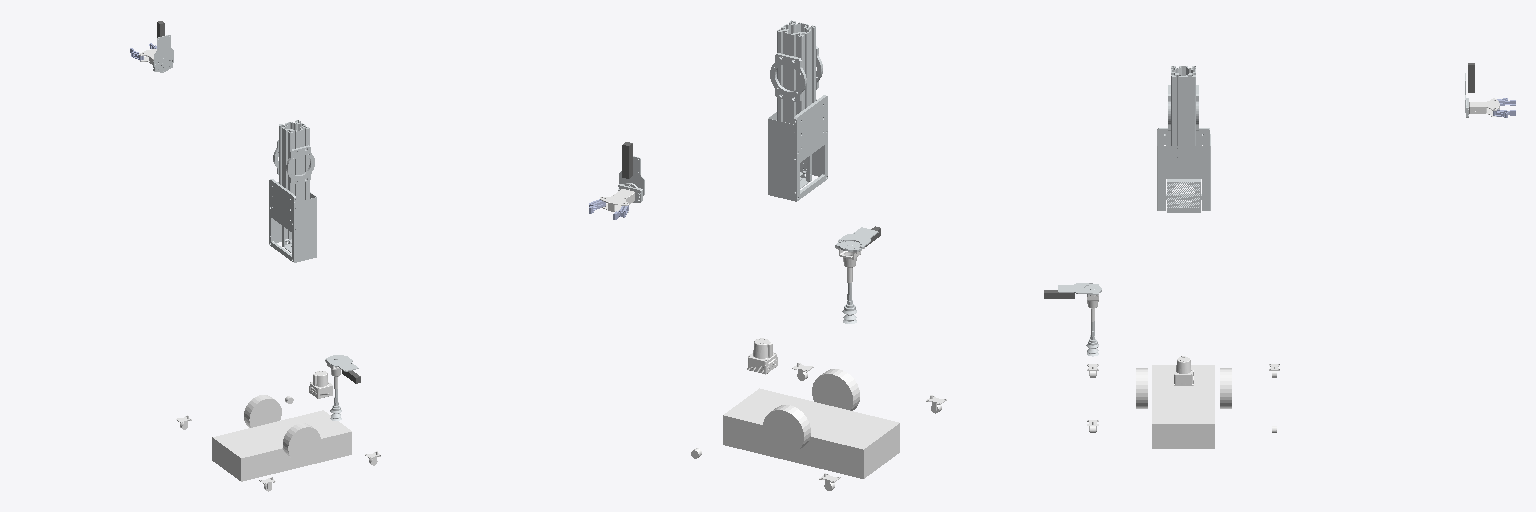
--- What the picture shows (computed from the rendered views, not written in the file) ---
3 views of the same robot in one strip: view 1: azimuth 30°, elevation 25°; view 2: azimuth 150°, elevation 25°; view 3: azimuth 270°, elevation 25° (orthographic).
Model galbot_zero with 58 links and 57 joints (8 revolute, 4 prismatic, 45 fixed), rooted at mobile_base, posed all joints at 0.
Visible links, largest first — view 1: body_lift_link, hexman_chassis_base_link, hexman_chassis_right_wheel_link, hexman_chassis_left_wheel_link; view 2: body_lift_link, hexman_chassis_base_link, hexman_chassis_left_wheel_link, hexman_chassis_right_wheel_link, hexman_chassis_lidar_link; view 3: body_lift_link, hexman_chassis_base_link.
Boxes of the visible links, x1,y1,x2,y2 form: body_lift_link: (269,120,316,262); hexman_chassis_base_link: (212,410,351,481); hexman_chassis_right_wheel_link: (283,423,320,461); hexman_chassis_left_wheel_link: (244,395,281,427); body_lift_link: (768,20,827,201); hexman_chassis_base_link: (723,388,899,478); hexman_chassis_left_wheel_link: (763,405,810,453); hexman_chassis_right_wheel_link: (812,369,859,410); hexman_chassis_lidar_link: (747,338,777,374); body_lift_link: (1157,66,1210,212); hexman_chassis_base_link: (1152,365,1214,448).
Bounding box of the posed robot: 0.4696 × 1.5 × 1.28 m (x, y, z).
Meshes: 32 distinct files referenced, 15 mesh visuals loaded (13 binary STL); not drawn: 19 (reference not matched to a file when rendering).

URDF robot description (galbot_zero):
<?xml version="1.0" ?>
<!-- =================================================================================== -->
<!-- |    For CUROBO                                                                   | -->
<!-- =================================================================================== -->
<!-- #####################################################################################
#
# Copyright (c) 2023 Galbot, Inc. All Rights Reserved.
#
# This software contains confidential and proprietary information of Galbot, Inc.
# ("Confidential Information"). You shall not disclose such Confidential Information
# and shall use it only in accordance with the terms of the license agreement you
# entered into with Galbot, Inc.
#
# UNAUTHORIZED COPYING, USE, OR DISTRIBUTION OF THIS SOFTWARE, OR ANY PORTION OR
# DERIVATIVE THEREOF, IS STRICTLY PROHIBITED. IF YOU HAVE RECEIVED THIS SOFTWARE IN
# ERROR, PLEASE NOTIFY GALBOT, INC. IMMEDIATELY AND DELETE IT FROM YOUR SYSTEM.
#
#####################################################################################-->

<robot name="galbot_zero">
    <material name="aluminum">
        <color rgba="0.5 0.5 0.5 1"/>
    </material>
    <material name="plastic">
        <color rgba="0.1 0.1 0.1 1"/>
    </material>
    <!-- Links and joints -->

    <link name="mobile_base">
        <inertial>
            <mass value="0"/>
            <inertia ixx="0" ixy="0" ixz="0" iyy="0" iyz="0" izz="0"/>
        </inertial>
    </link>
    <link name="base_link_x">
        <inertial>
            <mass value="0"/>
            <inertia ixx="0" ixy="0" ixz="0" iyy="0" iyz="0" izz="0"/>
        </inertial>
    </link>
    <link name="base_link_y">
        <inertial>
            <mass value="0"/>
            <inertia ixx="0" ixy="0" ixz="0" iyy="0" iyz="0" izz="0"/>
        </inertial>
    </link>
    <link name="base_link_z">
        <inertial>
            <mass value="0"/>
            <inertia ixx="0" ixy="0" ixz="0" iyy="0" iyz="0" izz="0"/>
        </inertial>
    </link>
    <joint name="mobile_x" type="prismatic">
        <origin rpy="0 0 0.0" xyz="0 0 0.0"/>
        <parent link="mobile_base"/>
        <child link="base_link_x"/>
        <axis xyz="1 0 0"/>
        <dynamics damping="10.0"/>
        <limit effort="87" lower="-5.0" upper="5.0" velocity="3.0"/>
    </joint>
    <joint name="mobile_y" type="prismatic">
        <origin rpy="0 0 0.0" xyz="0 0 0.0"/>
        <parent link="base_link_x"/>
        <child link="base_link_y"/>
        <axis xyz="0 1 0"/>
        <dynamics damping="10.0"/>
        <limit effort="87" lower="-5.0" upper="5.0" velocity="3.0"/>
    </joint>
    <joint name="mobile_yaw" type="revolute">
        <origin rpy="0 0 0.0" xyz="0 0 0.0"/>
        <parent link="base_link_y"/>
        <child link="base_link_z"/>
        <axis xyz="0 0 1"/>
        <dynamics damping="10.0"/>
        <limit effort="87" lower="-6.0" upper="6.0" velocity="4.50"/>
    </joint>
    <joint name="base_fixed" type="fixed">
        <origin rpy="0 0 0.0" xyz="0 0 0.0"/>
        <parent link="base_link_z"/>
        <child link="base_link"/>
        <axis xyz="0 0 0"/>
    </joint>

    <link name="base_link">
        <inertial>
            <mass value="0"/>
            <inertia ixx="0" ixy="0" ixz="0" iyy="0" iyz="0" izz="0"/>
        </inertial>
    </link>
    <joint name="hexman_chassis_joint" type="fixed">
        <origin rpy="0 0 0" xyz="0 0 0"/>
        <parent link="base_link"/>
        <child link="hexman_chassis_base_link"/>
    </joint>
    <link name="hexman_chassis_base_link">
        <inertial>
            <origin rpy="0 0 0" xyz="0.0019437 -2.5309E-05 0.094764"/>
             <!-- <mass value="20.4113"/>-->
             <mass value="7.4113" /> 
            <inertia ixx="0.075816" ixy="9.0316E-09" ixz="1.816E-05" iyy="0.083303" iyz="9.8923E-09" izz="0.15228"/>
        </inertial>
        <visual>
            <origin rpy="0 0 0" xyz="0 0 0"/>
            <geometry>
                <box size="0.443 0.2 0.089"/>
                <!-- <mesh filename="meshes/chassis/hexman_chassis_base_link.stl"/> -->
            </geometry>
            <material name="">
                <color rgba="1 1 1 1"/>
            </material>
        </visual>
        <collision>
            <origin rpy="0 0 0" xyz="0 0 0.089"/>
            <geometry>
                <box size="0.443 0.2 0.089"/>
                <!-- <mesh filename="meshes/chassis/hexman_chassis_base_link.stl" /> -->
            </geometry>
        </collision>
    </link>
    <link name="hexman_chassis_right_wheel_link">
        <inertial>
            <origin rpy="0 0 0" xyz="-2.5255E-19 0 -0.0004362"/>
            <mass value="0.5968"/>
            <inertia ixx="0.00067338" ixy="1.2511E-08" ixz="-2.7671E-20" iyy="0.00067336" iyz="1.2923E-18"
                     izz="0.0010757"/>
        </inertial>
        <visual>
            <origin rpy="0 0 0" xyz="0 0 0"/>
            <geometry>
                <cylinder length="0.0386" radius="0.0650"/>
                <!-- <mesh filename="meshes/chassis/hexman_chassis_right_wheel_link.stl"/> -->
            </geometry>
            <material name="">
                <color rgba="1 1 1 1"/>
            </material>
        </visual>
        <collision>
            <origin rpy="0 0 0" xyz="0 0 0"/>
            <geometry>
                <cylinder length="0.0386" radius="0.0650"/>
                <!-- <mesh filename="meshes/chassis/hexman_chassis_right_wheel_link.stl" /> -->
            </geometry>
        </collision>
    </link>
    <joint name="hexman_chassis_right_wheel_joint" type="fixed">
        <origin rpy="-1.5708 0 3.1416" xyz="0 -0.1341 0.067"/>
        <parent link="hexman_chassis_base_link"/>
        <child link="hexman_chassis_right_wheel_link"/>
        <axis xyz="0 0 -1"/>
        <dynamics damping="100.0" friction="0.0"/>
        <transmission name="hexman_chassis_right_wheel_joint_trans">
            <type>transmission_interface/SimpleTransmission</type>
            <joint name="hexman_chassis_right_wheel_joint">
                <hardwareInterface>VelocityJointInterface</hardwareInterface>
            </joint>
            <actuator name="hexman_chassis_right_wheel_joint_motor">
                <mechanicalReduction>1</mechanicalReduction>
            </actuator>
        </transmission>
    </joint>
    <link name="hexman_chassis_left_wheel_link">
        <inertial>
            <origin rpy="0 0 0" xyz="-7.3416E-19 0 0.0004362"/>
            <mass value="0.5968"/>
            <inertia ixx="0.00067338" ixy="-1.2742E-08" ixz="-3.5321E-20" iyy="0.00067336" iyz="-3.1288E-18"
                     izz="0.0010757"/>
        </inertial>
        <visual>
            <origin rpy="0 0 0" xyz="0 0 0"/>
            <geometry>
                <!-- <mesh filename="meshes/chassis/hexman_chassis_left_wheel_link.stl"/> -->
                <cylinder length="0.0386" radius="0.0650"/>
            </geometry>
            <material name="">
                <color rgba="1 1 1 1"/>
            </material>
        </visual>
        <collision>
            <origin rpy="0 0 0" xyz="0 0 0"/>
            <geometry>
                <cylinder length="0.0386" radius="0.0650"/>
                <!-- <mesh filename="meshes/chassis/hexman_chassis_left_wheel_link.stl" /> -->
            </geometry>
        </collision>
    </link>
    <joint name="hexman_chassis_left_wheel_joint" type="fixed">
        <origin rpy="-1.5708 0 3.1416" xyz="0 0.1341 0.067"/>
        <parent link="hexman_chassis_base_link"/>
        <child link="hexman_chassis_left_wheel_link"/>
        <axis xyz="0 0 1"/>
        <dynamics damping="100.0" friction="0.0"/>
        <transmission name="hexman_chassis_left_wheel_joint_trans">
            <type>transmission_interface/SimpleTransmission</type>
            <joint name="hexman_chassis_left_wheel_joint">
                <hardwareInterface>VelocityJointInterface</hardwareInterface>
            </joint>
            <actuator name="hexman_chassis_left_wheel_joint_motor">
                <mechanicalReduction>1</mechanicalReduction>
            </actuator>
        </transmission>
    </joint>

    <link name="hexman_chassis_caster_swivel_link1">
        <inertial>
            <origin rpy="0 0 0" xyz="0.014272 7.0133E-05 -0.0064185"/>
            <mass value="0.0058282"/>
            <inertia ixx="1.0504E-06" ixy="-9.9424E-10" ixz="4.8427E-08" iyy="1.2527E-06" iyz="2.3797E-10"
                     izz="1.3349E-06"/>
        </inertial>
        <visual>
            <origin rpy="0 0 0" xyz="0 0 0"/>
            <geometry>
                <mesh filename="meshes/chassis/hexman_chassis_caster_swivel_link1.stl"/>
            </geometry>
            <material name="">
                <color rgba="1 1 1 1"/>
            </material>
        </visual>
        <collision>
            <origin rpy="0 0 0" xyz="0 0 0"/>
            <geometry>
                <mesh filename="meshes/chassis/hexman_chassis_caster_swivel_link1.stl"/>
            </geometry>
        </collision>
    </link>
    <joint name="hexman_chassis_caster_swivel_joint1" type="fixed">
        <origin rpy="0 0 3.1416" xyz="0.21 0.29 0.037"/>
        <parent link="hexman_chassis_base_link"/>
        <child link="hexman_chassis_caster_swivel_link1"/>
        <axis xyz="0 0 -1"/>
        <dynamics damping="0.1" friction="0.0"/>
    </joint>
    <link name="hexman_chassis_caster_wheel_link1">
        <inertial>
            <origin rpy="0 0 0" xyz="0 0 0"/>
            <mass value="0.0083449"/>
            <inertia ixx="5.2694E-07" ixy="1.2465E-25" ixz="-1.7105E-23" iyy="5.2694E-07" iyz="7.4033E-23"
                     izz="6.5194E-07"/>
        </inertial>
        <visual>
            <origin rpy="0 0 0" xyz="0 0 0"/>
            <geometry>
                <cylinder length="0.017" radius="0.0125"/>
                <!-- <mesh filename="meshes/chassis/hexman_chassis_caster_wheel_link1.stl"/> -->
            </geometry>
            <material name="">
                <color rgba="1 1 1 1"/>
            </material>
        </visual>
        <collision>
            <origin rpy="0 0 0" xyz="0 0 0"/>
            <geometry>
                <cylinder length="0.017" radius="0.0125"/>
                <!-- <mesh filename="meshes/chassis/hexman_chassis_caster_wheel_link1.stl" /> -->
            </geometry>
        </collision>
    </link>
    <joint name="hexman_chassis_caster_wheel_joint1" type="fixed">
        <origin rpy="-1.5757 1.5708 3.1416" xyz="0.015 7.3709E-05 -0.0245"/>
        <parent link="hexman_chassis_caster_swivel_link1"/>
        <child link="hexman_chassis_caster_wheel_link1"/>
        <axis xyz="0 0 -1"/>
        <dynamics damping="0.1" friction="0.0"/>
    </joint>
    <link name="hexman_chassis_caster_swivel_link2">
        <inertial>
            <origin rpy="0 0 0" xyz="0.014272 0 -0.0064185"/>
            <mass value="0.0058282"/>
            <inertia ixx="1.0504E-06" ixy="6.2844E-22" ixz="4.8428E-08" iyy="1.2527E-06" iyz="-1.4139E-22"
                     izz="1.3349E-06"/>
        </inertial>
        <visual>
            <origin rpy="0 0 0" xyz="0 0 0"/>
            <geometry>
                <mesh filename="meshes/chassis/hexman_chassis_caster_swivel_link2.stl"/>
            </geometry>
            <material name="">
                <color rgba="1 1 1 1"/>
            </material>
        </visual>
        <collision>
            <origin rpy="0 0 0" xyz="0 0 0"/>
            <geometry>
                <mesh filename="meshes/chassis/hexman_chassis_caster_swivel_link2.stl"/>
            </geometry>
        </collision>
    </link>
    <joint name="hexman_chassis_caster_swivel_joint2" type="fixed">
        <origin rpy="0 0 3.1416" xyz="0.21 -0.29 0.037"/>
        <parent link="hexman_chassis_base_link"/>
        <child link="hexman_chassis_caster_swivel_link2"/>
        <axis xyz="0 0 -1"/>
        <dynamics damping="0.1" friction="0.0"/>
    </joint>
    <link name="hexman_chassis_caster_wheel_link2">
        <inertial>
            <origin rpy="0 0 0" xyz="-2.7756E-17 0 0"/>
            <mass value="0.0083449"/>
            <inertia ixx="5.2694E-07" ixy="-1.3642E-37" ixz="4.5487E-23" iyy="5.2694E-07" iyz="3.966E-25"
                     izz="6.5194E-07"/>
        </inertial>
        <visual>
            <origin rpy="0 0 0" xyz="0 0 0"/>
            <geometry>
                <!-- <mesh filename="meshes/chassis/hexman_chassis_caster_wheel_link2.stl"/> -->
                <cylinder length="0.017" radius="0.0125"/>
            </geometry>
            <material name="">
                <color rgba="1 1 1 1"/>
            </material>
        </visual>
        <collision>
            <origin rpy="0 0 0" xyz="0 0 0"/>
            <geometry>
                <cylinder length="0.017" radius="0.0125"/>
            </geometry>
        </collision>
    </link>
    <joint name="hexman_chassis_caster_wheel_joint2" type="fixed">
        <origin rpy="-1.5708 0 3.1416" xyz="0.015 0 -0.0245"/>
        <parent link="hexman_chassis_caster_swivel_link2"/>
        <child link="hexman_chassis_caster_wheel_link2"/>
        <axis xyz="0 0 -1"/>
        <dynamics damping="0.1" friction="0.0"/>
    </joint>

    <link name="hexman_chassis_caster_swivel_link3">
        <inertial>
            <origin rpy="0 0 0" xyz="0.014272 0 -0.0064185"/>
            <mass value="0.0058282"/>
            <inertia ixx="1.0504E-06" ixy="1.9371E-22" ixz="4.8428E-08" iyy="1.2527E-06" iyz="5.7206E-24"
                     izz="1.3349E-06"/>
        </inertial>
        <visual>
            <origin rpy="0 0 0" xyz="0 0 0"/>
            <geometry>
                <mesh filename="meshes/chassis/hexman_chassis_caster_swivel_link3.stl"/>
            </geometry>
            <material name="">
                <color rgba="1 1 1 1"/>
            </material>
        </visual>
        <collision>
            <origin rpy="0 0 0" xyz="0 0 0"/>
            <geometry>
                <mesh filename="meshes/chassis/hexman_chassis_caster_swivel_link3.stl"/>
            </geometry>
        </collision>
    </link>
    <joint name="hexman_chassis_caster_swivel_joint3" type="fixed">
        <origin rpy="0 0 3.1416" xyz="-0.21 -0.29 0.037"/>
        <parent link="hexman_chassis_base_link"/>
        <child link="hexman_chassis_caster_swivel_link3"/>
        <axis xyz="0 0 -1"/>
        <dynamics damping="0.1" friction="0.0"/>
    </joint>
    <link name="hexman_chassis_caster_wheel_link3">
        <inertial>
            <origin rpy="0 0 0" xyz="-2.7756E-17 -1.7347E-18 0"/>
            <mass value="0.0083449"/>
            <inertia ixx="5.2695E-07" ixy="9.843E-26" ixz="6.1423E-10" iyy="5.2694E-07" iyz="3.3473E-23"
                     izz="6.5194E-07"/>
        </inertial>
        <visual>
            <origin rpy="0 0 0" xyz="0 0 0"/>
            <geometry>
                <cylinder length="0.017" radius="0.0125"/>
                <!-- <mesh filename="meshes/chassis/hexman_chassis_caster_wheel_link3.stl"/> -->
            </geometry>
            <material name="">
                <color rgba="1 1 1 1"/>
            </material>
        </visual>
        <collision>
            <origin rpy="0 0 0" xyz="0 0 0"/>
            <geometry>
                <cylinder length="0.017" radius="0.0125"/>
                <!-- <mesh filename="meshes/chassis/hexman_chassis_caster_wheel_link3.stl" /> -->
            </geometry>
        </collision>
    </link>
    <joint name="hexman_chassis_caster_wheel_joint3" type="fixed">
        <origin rpy="-1.5708 0 3.1416" xyz="0.015 -7.3709E-05 -0.0245"/>
        <parent link="hexman_chassis_caster_swivel_link3"/>
        <child link="hexman_chassis_caster_wheel_link3"/>
        <axis xyz="0.0049139 0 0.99999"/>
        <dynamics damping="0.1" friction="0.0"/>
    </joint>
    <link name="hexman_chassis_caster_swivel_link4">
        <inertial>
            <origin rpy="0 0 0" xyz="0.014272 7.0133E-05 -0.0064185"/>
            <mass value="0.0058282"/>
            <inertia ixx="1.0504E-06" ixy="-9.9424E-10" ixz="4.8427E-08" iyy="1.2527E-06" iyz="2.3797E-10"
                     izz="1.3349E-06"/>
        </inertial>
        <visual>
            <origin rpy="0 0 0" xyz="0 0 0"/>
            <geometry>
                <mesh filename="meshes/chassis/hexman_chassis_caster_swivel_link4.stl"/>
            </geometry>
            <material name="">
                <color rgba="1 1 1 1"/>
            </material>
        </visual>
        <collision>
            <origin rpy="0 0 0" xyz="0 0 0"/>
            <geometry>
                <mesh filename="meshes/chassis/hexman_chassis_caster_swivel_link4.stl"/>
            </geometry>
        </collision>
    </link>
    <joint name="hexman_chassis_caster_swivel_joint4" type="fixed">
        <origin rpy="0 0 3.1416" xyz="-0.21 0.29 0.037"/>
        <parent link="hexman_chassis_base_link"/>
        <child link="hexman_chassis_caster_swivel_link4"/>
        <axis xyz="0 0 -1"/>
        <dynamics damping="0.1" friction="0.0"/>
    </joint>
    <link name="hexman_chassis_caster_wheel_link4">
        <inertial>
            <origin rpy="0 0 0" xyz="0 2.7756E-17 -5.5511E-17"/>
            <mass value="0.0083449"/>
            <inertia ixx="5.2694E-07" ixy="1.2465E-25" ixz="-1.7105E-23" iyy="5.2694E-07" iyz="7.4033E-23"
                     izz="6.5194E-07"/>
        </inertial>
        <visual>
            <origin rpy="0 0 0" xyz="0 0 0"/>
            <geometry>
                <cylinder length="0.017" radius="0.0125"/>
                <!-- <mesh filename="meshes/chassis/hexman_chassis_caster_wheel_link4.stl"/> -->
            </geometry>
            <material name="">
                <color rgba="1 1 1 1"/>
            </material>
        </visual>
        <collision>
            <origin rpy="0 0 0" xyz="0 0 0"/>
            <geometry>
                <cylinder length="0.017" radius="0.0125"/>
                <!-- <mesh filename="meshes/chassis/hexman_chassis_caster_wheel_link4.stl" /> -->
            </geometry>
        </collision>
    </link>
    <joint name="hexman_chassis_caster_wheel_joint4" type="fixed">
        <origin rpy="-1.5757 1.5708 3.1416" xyz="0.015 7.3709E-05 -0.0245"/>
        <parent link="hexman_chassis_caster_swivel_link4"/>
        <child link="hexman_chassis_caster_wheel_link4"/>
        <axis xyz="0 0 -1"/>
        <dynamics damping="0.1" friction="0.0"/>
    </joint>

    <link name="hexman_chassis_lidar_link">
        <inertial>
            <origin rpy="0 0 0" xyz="-0.0039812 -3.8899E-05 -0.014046"/>
            <mass value="0.061645"/>
            <inertia ixx="3.7195E-05" ixy="2.5674E-09" ixz="-1.0731E-07" iyy="3.3749E-05" iyz="1.8972E-08"
                     izz="5.2832E-05"/>
        </inertial>
        <visual>
            <origin rpy="0 0 0" xyz="0 0 0"/>
            <geometry>
                <mesh filename="meshes/chassis/hexman_chassis_lidar_link.stl"/>
            </geometry>
            <material name="">
                <color rgba="1 1 1 1"/>
            </material>
        </visual>
        <collision>
            <origin rpy="0 0 0" xyz="0 0 0"/>
            <geometry>
                <mesh filename="meshes/chassis/hexman_chassis_lidar_link.stl"/>
            </geometry>
        </collision>
    </link>
    <joint name="hexman_chassis_lidar_joint" type="fixed">
        <origin rpy="0 0 3.1416" xyz="0.15 0 0.2005"/>
        <parent link="hexman_chassis_base_link"/>
        <child link="hexman_chassis_lidar_link"/>
        <axis xyz="0 0 0"/>
    </joint>
    <link name="hexman_chassis_lift_fix_point_link">
        <inertial>
            <mass value="0"/>
            <inertia ixx="0" ixy="0" ixz="0" iyy="0" iyz="0" izz="0"/>
        </inertial>
    </link>
    <joint name="hexman_chassis_lift_fix_point_joint" type="fixed">
        <origin rpy="0 0 0" xyz="-0.1045 0 0.1504"/>
        <parent link="hexman_chassis_base_link"/>
        <child link="hexman_chassis_lift_fix_point_link"/>
        <axis xyz="0 0 0"/>
    </joint>
    <joint name="body_torsor_joint" type="fixed">
        <origin rpy="0 0 3.141592653589793" xyz="0 0 0"/>
        <parent link="hexman_chassis_lift_fix_point_link"/>
        <child link="lift_base_link"/>
    </joint>
    <link name="lift_base_link">
        <inertial>
            <origin rpy="0 0 0" xyz="-0.02579 8.6701E-05 0.40292"/>
            <mass value="6.2299"/>
            <inertia ixx="0.29388" ixy="-3.7312E-07" ixz="-7.8474E-05" iyy="0.28323" iyz="-3.0503E-05" izz="0.014664"/>
        </inertial>
        <visual>
            <origin rpy="0 0 0" xyz="0 0 0"/>
            <geometry>
                <mesh filename="meshes/body/lift_base_link.stl"/>
            </geometry>
            <material name="">
                <color rgba="0.75294 0.75294 0.75294 1"/>
            </material>
        </visual>
        <collision>
            <origin rpy="0 0 0" xyz="0 0 0"/>
            <geometry>
                <mesh filename="meshes/body/lift_base_link.stl"/>
            </geometry>
        </collision>
    </link>
    <link name="body_lift_link">
        <inertial>
            <origin rpy="0 0 0" xyz="-0.042686 -1.1977E-05 0.16212"/>
            <mass value="3.3336"/>
            <inertia ixx="0.025094" ixy="6.0022E-07" ixz="0.0002003" iyy="0.02006" iyz="1.6489E-06" izz="0.0091015"/>
        </inertial>
        <visual>
            <origin rpy="0 0 0" xyz="0 0 0"/>
            <geometry>
                <mesh filename="meshes/body/body_lift_link.stl"/>
            </geometry>
            <material name="">
                <color rgba="0.89804 0.91765 0.92941 1"/>
            </material>
        </visual>
        <collision>
            <origin rpy="0 0 0" xyz="0 0 0"/>
            <geometry>
                <mesh filename="meshes/body/body_lift_link.stl"/>
            </geometry>
        </collision>
    </link>
    <!-- @Herman Ye: Support lift joint control in curobo-->
    <joint name="lift_joint" type="fixed">
        <origin rpy="0 0 0" xyz="-0.1015 0 0.6581"/>
        <parent link="lift_base_link"/>
        <child link="body_lift_link"/>
        <axis xyz="0 0 1"/>
        <limit effort="10" lower="0" upper="0.7" velocity="0.02"/>
    </joint>
    <joint name="head_joint" type="fixed">
        <origin rpy=" 0 0 3.141592653589793 " xyz="-0.05 0 0.398"/>
        <parent link="body_lift_link"/>
        <child link="head_link"/>
    </joint>
    <link name="head_link">
        <inertial>
            <origin rpy="0 0 0" xyz="2.8174E-05 4.4192E-05 0.026611"/>
            <mass value="0.34013"/>
            <inertia ixx="0.00017046" ixy="-1.5263E-08" ixz="2.7006E-07" iyy="0.00023937" iyz="4.4134E-07"
                     izz="0.00023946"/>
        </inertial>
        <!-- <visual>
            <origin rpy="0 0 0" xyz="0 0 0"/>
            <geometry>
                <mesh filename="meshes/head/head_link.stl"/>
            </geometry>
            <material name="">
                <color rgba="0.89804 0.91765 0.92941 1"/>
            </material>
        </visual> -->
        <collision>
            <origin rpy="0 0 0" xyz="0 0 0"/>
            <geometry>
                <mesh filename="meshes/head/head_link.stl"/>
            </geometry>
        </collision>
    </link>
    <link name="head_yaw_link">
        <inertial>
            <origin rpy="0 0 0" xyz="0.060943 -0.0042049 0.013422"/>
            <mass value="0.3007"/>
            <inertia ixx="0.00017407" ixy="5.4933E-07" ixz="1.9726E-07" iyy="0.0002335" iyz="-4.3666E-07"
                     izz="0.00023763"/>
        </inertial>
        <!-- <visual>
            <origin rpy="0 0 0" xyz="0 0 0"/>
            <geometry>
                <mesh filename="meshes/head/head_yaw_link.stl"/>
            </geometry>
            <material name="">
                <color rgba="0.89804 0.91765 0.92941 1"/>
            </material>
        </visual> -->
        <collision>
            <origin rpy="0 0 0" xyz="0 0 0"/>
            <geometry>
                <mesh filename="meshes/head/head_yaw_link.stl"/>
            </geometry>
        </collision>
    </link>
    <joint name="head_yaw_joint" type="fixed">
        <!-- <origin rpy="0 0 0" xyz="0 0 0"/> -->
        <origin rpy="0 0 0" xyz="0 0 0.0746"/>
        <parent link="head_link"/>
        <child link="head_yaw_link"/>
        <axis xyz="0 0 1"/>
        <!-- Constrain the yaw motor (-90, +90) -->
        <limit effort="60" lower="-1.5707963267948966" upper="1.5707963267948966" velocity="1.5"/>
        <dynamics damping="0.5" friction="0"/>
    </joint>
    <link name="head_pitch_link">
        <inertial>
            <origin rpy="0 0 0" xyz="0.046748 0.0077596 -0.033083"/>
            <mass value="0.56901"/>
            <inertia ixx="0.0032613" ixy="8.7738E-06" ixz="-2.3333E-06" iyy="0.0031112" iyz="1.3221E-06"
                     izz="0.0015503"/>
        </inertial>
        <!-- <visual>
            <origin rpy="0 0 0" xyz="0 0 0"/>
            <geometry>
                <mesh filename="meshes/head/head_pitch_link.stl"/>
            </geometry>
            <material name="">
                <color rgba="0.89804 0.91765 0.92941 1"/>
            </material>
        </visual> -->
        <collision>
            <origin rpy="0 0 0" xyz="0 0 0"/>
            <geometry>
                <mesh filename="meshes/head/head_pitch_link.stl"/>
            </geometry>
        </collision>
    </link>
    <joint name="head_pitch_joint" type="fixed">
        <origin rpy="1.5708 -1.5708 0" xyz="0.074 -0.0345 0.0146"/>
        <parent link="head_yaw_link"/>
        <child link="head_pitch_link"/>
        <axis xyz="0 0 1"/>
        <!-- Constrain the pitch motor (-70, +3) -->
        <limit effort="60" lower="-1.2217304763960306" upper="0.05235987755982988" velocity="1.5"/>
        <dynamics damping="0.5" friction="0"/>
    </joint>
    <link name="head_camera_normal_frame">
        <inertial>
            <origin rpy="0 0 0" xyz="-0.055827 0.032071 0.0047467"/>
            <mass value="0.30512"/>
            <inertia ixx="0.00025424" ixy="-1.1252E-06" ixz="2.9462E-05" iyy="0.00047177" iyz="9.9043E-08"
                     izz="0.00067985"/>
        </inertial>
        <!-- <visual>
            <origin rpy="0 0 0" xyz="0 0 0"/>
            <geometry>
                <mesh filename="meshes/head/head_camera_link.stl"/>
            </geometry>
            <material name="">
                <color rgba="1 1 1 1"/>
            </material>
        </visual> -->
        <collision>
            <origin rpy="0 0 0" xyz="0 0 0"/>
            <geometry>
                <mesh filename="meshes/head/head_camera_link.stl"/>
            </geometry>
        </collision>
    </link>
    <joint name="head_camera_normal_joint" type="fixed">
        <origin rpy="-1.5708 0 -1.5708" xyz="0.091 -0.0566 -0.0035"/>
        <parent link="head_pitch_link"/>
        <child link="head_camera_normal_frame"/>
        <axis xyz="0 0 0"/>
    </joint>
    <link name="head_camera_optical_frame">
        <inertial>
            <mass value="0"/>
            <inertia ixx="0" ixy="0" ixz="0" iyy="0" iyz="0" izz="0"/>
        </inertial>
    </link>
    <joint name="head_camera_optical_joint" type="fixed">
        <origin rpy="1.5708 -1.5708 0" xyz="0.091 -0.0566 -0.0035"/>
        <parent link="head_pitch_link"/>
        <child link="head_camera_optical_frame"/>
        <axis xyz="0 0 0"/>
    </joint>
    <joint name="left_arm_joint" type="fixed">
        <origin rpy="1.5708 -1.5707963267948966 0" xyz="-0.05 -0.05 0.269"/>
        <parent link="body_lift_link"/>
        <child link="left_arm_base_link"/>
    </joint>
    <link name="left_arm_base_link">
        <inertial>
            <origin rpy="0 0 0" xyz="0.000433268851866144 3.54527840972405E-05 0.0599427623574736"/>
            <mass value="0.841071174772543"/>
            <inertia ixx="0.00172611149818605" ixy="2.52724703312125E-06" ixz="3.67689528877993E-05"
                     iyy="0.00170987425756066" iyz="-1.68009023667311E-06" izz="0.000904023916742301"/>
        </inertial>
        <visual>
            <origin rpy="0 0 0" xyz="0 0 0"/>
            <geometry>
                <mesh filename="meshes/arm/realman_rm75_base_link.stl"/>
            </geometry>
            <material name="">
                <color rgba="1 1 1 1"/>
            </material>
        </visual>
        <collision>
            <origin rpy="0 0 0" xyz="0 0 0"/>
            <geometry>
                <mesh filename="meshes/arm/realman_rm75_base_link.stl"/>
            </geometry>
        </collision>
    </link>
    <link name="left_arm_link1">
        <inertial>
            <origin rpy="0 0 0" xyz="0.0251854224372461 1.19160585601655E-08 -0.021107996993288"/>
            <mass value="0.593563458735581"/>
            <inertia ixx="0.000561352422092522" ixy="9.8019294192418E-09" ixz="-0.000211217278563478"
                     iyy="0.00126614121202124" iyz="1.29510293158304E-08" izz="0.0011816817861243"/>
        </inertial>
        <visual>
            <origin rpy="0 0 0" xyz="0 0 0"/>
            <geometry>
                <mesh filename="meshes/arm/realman_rm75_link1.stl"/>
            </geometry>
            <material name="">
                <color rgba="1 1 1 1"/>
            </material>
        </visual>
        <collision>
            <origin rpy="0 0 0" xyz="0 0 0"/>
            <geometry>
                <mesh filename="meshes/arm/realman_rm75_link1.stl"/>
            </geometry>
        </collision>
    </link>
    <joint name="left_arm_joint1" type="revolute">
        <origin rpy="-1.5708 0 0" xyz="0 0 0.2405"/>
        <parent link="left_arm_base_link"/>
        <child link="left_arm_link1"/>
        <axis xyz="0 -1 0"/>
        <limit effort="60" lower="-3.1" upper="+3.1" velocity="3.14"/>
    </joint>
    <link name="left_arm_link2">
        <inertial>
            <origin rpy="0 0 0" xyz="2.72859133252335E-07 0.011077753037361 0.0761295106490881"/>
            <mass value="0.432849770310974"/>
            <inertia ixx="0.00125838173873093" ixy="5.63146579602116E-09" ixz="1.33486683063366E-09"
                     iyy="0.00122245448121472" iyz="0.000279003475762058" izz="0.000317474184276672"/>
        </inertial>
        <visual>
            <origin rpy="0 0 0" xyz="0 0 0"/>
            <geometry>
                <mesh filename="meshes/arm/realman_rm75_link2.stl"/>
            </geometry>
            <material name="">
                <color rgba="1 1 1 1"/>
            </material>
        </visual>
        <collision>
            <origin rpy="0 0 0" xyz="0 0 0"/>
            <geometry>
                <mesh filename="meshes/arm/realman_rm75_link2.stl"/>
            </geometry>
        </collision>
    </link>
    <joint name="left_arm_joint2" type="revolute">
        <origin rpy="1.5708 0 0" xyz="0 0 0"/>
        <parent link="left_arm_link1"/>
        <child link="left_arm_link2"/>
        <axis xyz="0 1 0"/>
        <limit effort="60" lower="-2.268" upper="2.268" velocity="3.14"/>
    </joint>
    <link name="left_arm_link3">
        <inertial>
            <origin rpy="0 0 0" xyz="6.84676164566044E-07 0.0273475408308154 -0.0235440119707943"/>
            <mass value="0.431325495678459"/>
            <inertia ixx="0.000794332771462568" ixy="1.03353218375171E-08" ixz="-2.32798826854953E-09"
                     iyy="0.000315065343266245" iyz="-0.000142620540462618" izz="0.000730371131605455"/>
        </inertial>
        <visual>
            <origin rpy="0 0 0" xyz="0 0 0"/>
            <geometry>
                <mesh filename="meshes/arm/realman_rm75_link3.stl"/>
            </geometry>
            <material name="">
                <color rgba="1 1 1 1"/>
            </material>
        </visual>
        <collision>
            <origin rpy="0 0 0" xyz="0 0 0"/>
            <geometry>
                <mesh filename="meshes/arm/realman_rm75_link3.stl"/>
            </geometry>
        </collision>
    </link>
    <joint name="left_arm_joint3" type="revolute">
        <origin rpy="-1.5708 0 0" xyz="0 0 0.256"/>
        <parent link="left_arm_link2"/>
        <child link="left_arm_link3"/>
        <axis xyz="0 -1 0"/>
        <limit effort="30" lower="-3.1" upper="3.1" velocity="3.92"/>
    </joint>
    <link name="left_arm_link4">
        <inertial>
            <origin rpy="0 0 0" xyz="5.05312670298932E-06 0.0105690692118619 0.0595925663703773"/>
            <mass value="0.289633681619295"/>
            <inertia ixx="0.000637371004484591" ixy="-3.86643270900744E-08" ixz="7.05261290886955E-08"
                     iyy="0.000614178164759844" iyz="0.000144610359942128" izz="0.000156483880946498"/>
        </inertial>
        <visual>
            <origin rpy="0 0 0" xyz="0 0 0"/>
            <geometry>
                <mesh filename="meshes/arm/realman_rm75_link4.stl"/>
            </geometry>
            <material name="">
                <color rgba="1 1 1 1"/>
            </material>
        </visual>
        <collision>
            <origin rpy="0 0 0" xyz="0 0 0"/>
            <geometry>
                <mesh filename="meshes/arm/realman_rm75_link4.stl"/>
            </geometry>
        </collision>
    </link>
    <joint name="left_arm_joint4" type="revolute">
        <origin rpy="1.5708 0 0" xyz="0 0 0"/>
        <parent link="left_arm_link3"/>
        <child link="left_arm_link4"/>
        <axis xyz="0 1 0"/>
        <limit effort="30" lower="-2.355" upper="2.355" velocity="3.92"/>
    </joint>
    <link name="left_arm_link5">
        <inertial>
            <origin rpy="0 0 0" xyz="1.1551661767744E-06 0.0215394748352686 -0.0180424468598241"/>
            <mass value="0.239419768320061"/>
            <inertia ixx="0.000285938919722783" ixy="2.21994116852616E-09" ixz="3.07101358617598E-09"
                     iyy="0.00011988808279186" iyz="-4.4236583260078E-05" izz="0.000262727540304212"/>
        </inertial>
        <visual>
            <origin rpy="0 0 0" xyz="0 0 0"/>
            <geometry>
                <mesh filename="meshes/arm/realman_rm75_link5.stl"/>
            </geometry>
            <material name="">
                <color rgba="1 1 1 1"/>
            </material>
        </visual>
        <collision>
            <origin rpy="0 0 0" xyz="0 0 0"/>
            <geometry>
                <mesh filename="meshes/arm/realman_rm75_link5.stl"/>
            </geometry>
        </collision>
    </link>
    <joint name="left_arm_joint5" type="revolute">
        <origin rpy="-1.5708 0 0" xyz="0 0 0.21"/>
        <parent link="left_arm_link4"/>
        <child link="left_arm_link5"/>
        <axis xyz="0 -1 0"/>
        <limit effort="10" lower="-3.1" upper="3.1" velocity="3.92"/>
    </joint>
    <link name="left_arm_link6">
        <inertial>
            <origin rpy="0 0 0" xyz="3.19794787018954E-06 0.00736804250989373 0.0593808368101291"/>
            <mass value="0.218799761431682"/>
            <inertia ixx="0.000350540363914436" ixy="-1.7705645712277E-08" ixz="3.41781620449632E-08"
                     iyy="0.000334482418423991" iyz="7.82431228462317E-05" izz="0.000104927867487584"/>
        </inertial>
        <visual>
            <origin rpy="0 0 0" xyz="0 0 0"/>
            <geometry>
                <mesh filename="meshes/arm/realman_rm75_link6.stl"/>
            </geometry>
            <material name="">
                <color rgba="1 1 1 1"/>
            </material>
        </visual>
        <collision>
            <origin rpy="0 0 0" xyz="0 0 0"/>
            <geometry>
                <mesh filename="meshes/arm/realman_rm75_link6.stl"/>
            </geometry>
        </collision>
    </link>
    <joint name="left_arm_joint6" type="revolute">
        <origin rpy="1.5708 0 0" xyz="0 0 0"/>
        <parent link="left_arm_link5"/>
        <child link="left_arm_link6"/>
        <axis xyz="0 1 0"/>
        <limit effort="10" lower="-2.233" upper="2.233" velocity="3.92"/>
    </joint>
    <link name="left_arm_link7">
        <inertial>
            <origin rpy="0 0 0" xyz="0.000714238382876259 -0.000396711987952758 -0.0126723660946126"/>
            <mass value="0.0649018034311231"/>
            <inertia ixx="2.02766547502765E-05" ixy="-1.32505200276848E-06" ixz="-2.58450915224912E-08"
                     iyy="1.87986725225022E-05" iyz="3.39471452123283E-09" izz="3.17885459163081E-05"/>
        </inertial>
        <visual>
            <origin rpy="0 0 0" xyz="0 0 0"/>
            <geometry>
                <mesh filename="meshes/arm/realman_rm75_link7.stl"/>
            </geometry>
            <material name="">
                <color rgba="1 1 1 1"/>
            </material>
        </visual>
        <collision>
            <origin rpy="0 0 0" xyz="0 0 0"/>
            <geometry>
                <mesh filename="meshes/arm/realman_rm75_link7.stl"/>
            </geometry>
        </collision>
    </link>
    <joint name="left_arm_joint7" type="revolute">
        <origin rpy="0 0 0" xyz="0 0 0.144"/>
        <parent link="left_arm_link6"/>
        <child link="left_arm_link7"/>
        <axis xyz="0 0 1"/>
        <limit effort="10" lower="-6.28" upper="6.28" velocity="3.92"/>
    </joint>
    <joint name="left_arm_end_effector_flange_joint" type="fixed">
        <origin rpy="1.5707963267948966 0 0" xyz="0 0 0"/>
        <parent link="left_arm_link7"/>
        <child link="left_arm_end_effector_flange_link"/>
    </joint>
    <link name="left_arm_end_effector_flange_link">
        <inertial>
            <origin rpy="0 0 0" xyz="4.16209483160246E-18 0.00278869455734304 1.10989195509399E-18"/>
            <mass value="0.0493002920412636"/>
            <inertia ixx="1.86857135099964E-05" ixy="-1.08650432728053E-22" ixz="6.86973902622073E-21"
                     iyy="2.81507409466306E-05" iyz="5.96925628265955E-23" izz="9.79608865148053E-06"/>
        </inertial>
        <visual>
            <origin rpy="0 0 0" xyz="0 0 0"/>
            <geometry>
                <mesh filename="meshes/adapter/arm_end_effector_flange.stl"/>
            </geometry>
            <material name="">
                <color rgba="0.898039215686275 0.917647058823529 0.929411764705882 1"/>
            </material>
        </visual>
        <collision>
            <origin rpy="0 0 0" xyz="0 0 0"/>
            <geometry>
                <mesh filename="meshes/adapter/arm_end_effector_flange.stl"/>
            </geometry>
        </collision>
    </link>
    <joint name="left_arm_camera_d415_flange_joint" type="fixed">
        <origin rpy="0 3.141592653589793 0" xyz="0 0 0"/>
        <parent link="left_arm_end_effector_flange_link"/>
        <child link="left_arm_camera_d415_flange_link"/>
    </joint>
    <link name="left_arm_camera_d415_flange_link">
        <inertial>
            <origin rpy="0 0 0" xyz="0.0592822351376299 -0.00148955992172333 -1.22797983111768E-18"/>
            <mass value="0.0176545384826988"/>
            <inertia ixx="7.7882126527069E-06" ixy="9.59349299176604E-09" ixz="6.26265028189193E-22"
                     iyy="2.12052757044674E-05" iyz="1.57916543683687E-22" izz="1.34435410109635E-05"/>
        </inertial>
        <visual>
            <origin rpy="0 0 0" xyz="0 0 0"/>
            <geometry>
                <mesh filename="meshes/adapter/camera_d415_flange.stl"/>
            </geometry>
            <material name="">
                <color rgba="0.898039215686275 0.917647058823529 0.929411764705882 1"/>
            </material>
        </visual>
        <collision>
            <origin rpy="0 0 0" xyz="0 0 0"/>
            <geometry>
                <mesh filename="meshes/adapter/camera_d415_flange.stl"/>
            </geometry>
        </collision>
    </link>

    <!-- camera body, with origin at bottom screw mount -->
    <joint name="left_arm_camera_joint" type="fixed">
        <origin rpy="1.5707963267948966 0 1.5707963267948966" xyz="0.0935 0.01 0"/>
        <parent link="left_arm_end_effector_flange_link"/>
        <child link="left_arm_camera_bottom_screw_frame"/>
    </joint>
    <link name="left_arm_camera_bottom_screw_frame">
        <inertial>
            <mass value="0"/>
            <inertia ixx="0" ixy="0" ixz="0" iyy="0" iyz="0" izz="0"/>
        </inertial>
    </link>
    <joint name="left_arm_camera_link_joint" type="fixed">
        <origin rpy="0 0 0" xyz="0 0.02 0.0115"/>
        <parent link="left_arm_camera_bottom_screw_frame"/>
        <child link="left_arm_camera_link"/>
    </joint>
    <link name="left_arm_camera_link">
        <visual>
            <origin rpy="1.5707963267948966 0 1.5707963267948966" xyz="0.00987 -0.02 0"/>
            <geometry>
                <!-- <mesh filename="meshes/camera/camera_d415.stl"/> -->
                <box size="0.02005 0.099 0.023"/>
            </geometry>
            <material name="aluminum"/>
        </visual>
        <collision>
            <origin rpy="0 0 0" xyz="0 -0.02 0"/>
            <geometry>
                <box size="0.02005 0.099 0.023"/>
            </geometry>
        </collision>
        <inertial>
            <mass value="0.072"/>
            <!-- The following are not reliable values, and should not be used for modeling -->
            <origin xyz="0 0 0"/>
            <inertia ixx="0.003881243" ixy="0.0" ixz="0.0" iyy="0.000498940" iyz="0.0" izz="0.003879257"/>
        </inertial>
    </link>
    <joint name="gripper_inspire_flange_joint" type="fixed">
        <origin rpy="0 0 0" xyz="0 0 0"/>
        <parent link="left_arm_end_effector_flange_link"/>
        <child link="gripper_inspire_flange_link"/>
    </joint>
    <link name="gripper_inspire_flange_link">
        <inertial>
            <origin rpy="0 0 0" xyz="4.66209947996709E-18 0.00877518164309892 -3.1251302459899E-18"/>
            <mass value="0.0383576184712739"/>
            <inertia ixx="1.61354132282382E-05" ixy="-1.487729570353E-22" ixz="-4.39698194360219E-21"
                     iyy="2.14391936917384E-05" iyz="4.44711891564739E-23" izz="5.57165635757638E-06"/>
        </inertial>
        <visual>
            <origin rpy="0 0 0" xyz="0 0 0"/>
            <geometry>
                <mesh filename="meshes/adapter/gripper_inspire_flange.stl"/>
            </geometry>
            <material name="">
                <color rgba="0.898039215686275 0.917647058823529 0.929411764705882 1"/>
            </material>
        </visual>
        <collision>
            <origin rpy="0 0 0" xyz="0 0 0"/>
            <geometry>
                <mesh filename="meshes/adapter/gripper_inspire_flange.stl"/>
            </geometry>
        </collision>
    </link>
    <joint name="gripper_inspire_joint" type="fixed">
        <origin rpy="-1.5707963267948966 -1.5707963267948966 0" xyz="0 0.012 0"/>
        <parent link="gripper_inspire_flange_link"/>
        <child link="gripper_inspire_body_link"/>
    </joint>
    <link name="gripper_inspire_body_link">
        <inertial>
            <origin rpy="0 0 0" xyz="1.5645E-05 -4.1843E-06 0.038"/>
            <mass value="0.072633"/>
            <inertia ixx="5.095E-05" ixy="-4.256E-14" ixz="2.0229E-08" iyy="6.0883E-05" iyz="-4.5583E-09"
                     izz="1.933E-05"/>
        </inertial>
        <visual>
            <origin rpy="0 0 0" xyz="0 0 0"/>
            <geometry>
                <mesh filename="meshes/gripper/gripper_inspire_body_link.stl"/>
            </geometry>
            <material name="">
                <color rgba="1 1 1 1"/>
            </material>
        </visual>
        <collision>
            <origin rpy="0 0 0" xyz="0 0 0"/>
            <geometry>
                <mesh filename="meshes/gripper/gripper_inspire_body_link.stl"/>
            </geometry>
        </collision>
    </link>
    <link name="gripper_inspire_left_link_1">
        <contact>
            <friction_anchor/>
            <stiffness value="30000.0"/>
            <damping value="1000.0"/>
            <spinning_friction value="0.1"/>
            <lateral_friction value="5.0"/>
        </contact>
        <inertial>
            <origin rpy="0 0 0" xyz="-0.018807 -0.0090021 -0.0046901"/>
            <mass value="0.010721"/>
            <inertia ixx="5.1508E-07" ixy="1.2231E-10" ixz="2.8973E-07" iyy="1.5709E-06" iyz="7.2401E-11"
                     izz="1.6904E-06"/>
        </inertial>
        <visual>
            <origin rpy="0 0 0" xyz="0 0 0"/>
            <geometry>
                <mesh filename="meshes/gripper/gripper_inspire_left_link_1.stl"/>
            </geometry>
            <material name="">
                <color rgba="0.79216 0.81961 0.93333 1"/>
            </material>
        </visual>
        <collision>
            <origin rpy="0 0 0" xyz="0 0 0"/>
            <geometry>
                <mesh filename="meshes/gripper/gripper_inspire_left_link_1.stl"/>
            </geometry>
        </collision>
    </link>
    <joint name="gripper_inspire_left_joint_1" type="prismatic">
        <origin rpy="3.141592653589793 -1.5707963267948966 0" xyz="-0.034907 -0.009 0.12953"/>
        <parent link="gripper_inspire_body_link"/>
        <child link="gripper_inspire_left_link_1"/>
        <axis xyz="0 0 -1"/>
        <limit effort="10" lower="-0.035" upper="0.01" velocity="1"/>
    </joint>
    <link name="gripper_inspire_right_link_1">
        <contact>
            <friction_anchor/>
            <stiffness value="30000.0"/>
            <damping value="1000.0"/>
            <spinning_friction value="0.1"/>
            <lateral_friction value="5.0"/>
        </contact>
        <inertial>
            <origin rpy="0 0 0" xyz="-0.018807 0.0089979 -0.0046901"/>
            <mass value="0.010721"/>
            <inertia ixx="5.1508E-07" ixy="1.2231E-10" ixz="2.8973E-07" iyy="1.5709E-06" iyz="7.2401E-11"
                     izz="1.6904E-06"/>
        </inertial>
        <visual>
            <origin rpy="0 0 0" xyz="0 0 0"/>
            <geometry>
                <mesh filename="meshes/gripper/gripper_inspire_right_link_1.stl"/>
            </geometry>
            <material name="">
                <color rgba="0.79216 0.81961 0.93333 1"/>
            </material>
        </visual>
        <collision>
            <origin rpy="0 0 0" xyz="0 0 0"/>
            <geometry>
                <mesh filename="meshes/gripper/gripper_inspire_right_link_1.stl"/>
            </geometry>
        </collision>
    </link>
    <joint name="gripper_inspire_right_joint_1" type="prismatic">
        <origin rpy="3.141592653589793 -1.5707963267948966 3.141592653589793" xyz="0.034907 -0.009 0.12953"/>
        <parent link="gripper_inspire_body_link"/>
        <child link="gripper_inspire_right_link_1"/>
        <axis xyz="0 0 1"/>
        <limit effort="10" lower="-0.01" upper="0.035" velocity="1"/>
        <!-- mimic not supported in isaac sim 2023.1.0-hotfix  -->
        <!-- <mimic joint="${name}_left_joint_1" multiplier="-1" offset="0" /> -->
    </joint>
    <!-- Tool Center Point -->
    <link name="gripper_inspire_tcp_frame">
        <inertial>
            <mass value="0"/>
            <inertia ixx="0" ixy="0" ixz="0" iyy="0" iyz="0" izz="0"/>
        </inertial>
    </link>
    <joint name="tcp_joint" type="fixed">
        <origin rpy="-1.5707963267948966 -1.5707963267948966 0" xyz="0 0 0.13751"/>
        <parent link="gripper_inspire_body_link"/>
        <child link="gripper_inspire_tcp_frame"/>
        <axis xyz="0 0 0"/>
    </joint>
    <joint name="right_arm_joint" type="fixed">
        <origin rpy="-1.5708 -1.5707963267948966 0" xyz="-0.05 0.05 0.269"/>
        <parent link="body_lift_link"/>
        <child link="right_arm_base_link"/>
    </joint>
    <link name="right_arm_base_link">
        <inertial>
            <origin rpy="0 0 0" xyz="0.00043296 3.5291E-05 0.059942"/>
            <mass value="0.84105"/>
            <inertia ixx="0.0017261" ixy="2.5275E-06" ixz="3.6769E-05" iyy="0.0017099" iyz="-1.68E-06"
                     izz="0.00090402"/>
        </inertial>
        <visual>
            <origin rpy="0 0 0" xyz="0 0 0"/>
            <geometry>
                <mesh filename="meshes/arm/realman_rm75_6f_base_link.stl"/>
            </geometry>
            <material name="">
                <color rgba="1 1 1 1"/>
            </material>
        </visual>
        <collision>
            <origin rpy="0 0 0" xyz="0 0 0"/>
            <geometry>
                <mesh filename="meshes/arm/realman_rm75_6f_base_link.stl"/>
            </geometry>
        </collision>
    </link>
    <link name="right_arm_link1">
        <inertial>
            <origin rpy="0 0 0" xyz="-2.1376E-07 0.025186 -0.021108"/>
            <mass value="0.59356"/>
            <inertia ixx="0.0012661" ixy="-9.8019E-09" ixz="-1.2951E-08" iyy="0.00056135" iyz="-0.00021122"
                     izz="0.0011817"/>
        </inertial>
        <visual>
            <origin rpy="0 0 0" xyz="0 0 0"/>
            <geometry>
                <mesh filename="meshes/arm/realman_rm75_6f_link1.stl"/>
            </geometry>
            <material name="">
                <color rgba="1 1 1 1"/>
            </material>
        </visual>
        <collision>
            <origin rpy="0 0 0" xyz="0 0 0"/>
            <geometry>
                <mesh filename="meshes/arm/realman_rm75_6f_link1.stl"/>
            </geometry>
        </collision>
    </link>
    <joint name="right_arm_joint1" type="fixed">
        <origin rpy="-1.5708 0 0" xyz="0 0 0.2405"/>
        <parent link="right_arm_base_link"/>
        <child link="right_arm_link1"/>
        <axis xyz="0 -1 0"/>
        <limit effort="100" lower="-3.107" upper="3.107" velocity="1"/>
    </joint>
    <link name="right_arm_link2">
        <inertial>
            <origin rpy="0 0 0" xyz="4.1111E-07 0.011078 0.076129"/>
            <mass value="0.43285"/>
            <inertia ixx="0.0012584" ixy="5.6315E-09" ixz="1.3348E-09" iyy="0.0012225" iyz="0.000279" izz="0.00031747"/>
        </inertial>
        <visual>
            <origin rpy="0 0 0" xyz="0 0 0"/>
            <geometry>
                <mesh filename="meshes/arm/realman_rm75_6f_link2.stl"/>
            </geometry>
            <material name="">
                <color rgba="1 1 1 1"/>
            </material>
        </visual>
        <collision>
            <origin rpy="0 0 0" xyz="0 0 0"/>
            <geometry>
                <mesh filename="meshes/arm/realman_rm75_6f_link2.stl"/>
            </geometry>
        </collision>
    </link>
    <joint name="right_arm_joint2" type="fixed">
        <origin rpy="1.5708 0 -1.5708" xyz="0 0 0"/>
        <parent link="right_arm_link1"/>
        <child link="right_arm_link2"/>
        <axis xyz="0 1 0"/>
        <limit effort="100" lower="-2.269" upper="2.269" velocity="1"/>
    </joint>
    <link name="right_arm_link3">
        <inertial>
            <origin rpy="0 0 0" xyz="-4.7932E-07 0.027347 -0.023544"/>
            <mass value="0.43132"/>
            <inertia ixx="0.00079433" ixy="1.0334E-08" ixz="-2.329E-09" iyy="0.00031507" iyz="-0.00014262"
                     izz="0.00073037"/>
        </inertial>
        <visual>
            <origin rpy="0 0 0" xyz="0 0 0"/>
            <geometry>
                <mesh filename="meshes/arm/realman_rm75_6f_link3.stl"/>
            </geometry>
            <material name="">
                <color rgba="1 1 1 1"/>
            </material>
        </visual>
        <collision>
            <origin rpy="0 0 0" xyz="0 0 0"/>
            <geometry>
                <mesh filename="meshes/arm/realman_rm75_6f_link3.stl"/>
            </geometry>
        </collision>
    </link>
    <joint name="right_arm_joint3" type="fixed">
        <origin rpy="-1.5708 0 0" xyz="0 0 0.256"/>
        <parent link="right_arm_link2"/>
        <child link="right_arm_link3"/>
        <axis xyz="0 -1 0"/>
        <limit effort="100" lower="-3.107" upper="3.107" velocity="1"/>
    </joint>
    <link name="right_arm_link4">
        <inertial>
            <origin rpy="0 0 0" xyz="5.0444E-06 0.010569 0.059593"/>
            <mass value="0.28963"/>
            <inertia ixx="0.00063737" ixy="-3.8666E-08" ixz="7.0522E-08" iyy="0.00061418" iyz="0.00014461"
                     izz="0.00015648"/>
        </inertial>
        <visual>
            <origin rpy="0 0 0" xyz="0 0 0"/>
            <geometry>
                <mesh filename="meshes/arm/realman_rm75_6f_link4.stl"/>
            </geometry>
            <material name="">
                <color rgba="1 1 1 1"/>
            </material>
        </visual>
        <collision>
            <origin rpy="0 0 0" xyz="0 0 0"/>
            <geometry>
                <mesh filename="meshes/arm/realman_rm75_6f_link4.stl"/>
            </geometry>
        </collision>
    </link>
    <joint name="right_arm_joint4" type="fixed">
        <origin rpy="1.5708 0 0" xyz="0 0 0"/>
        <parent link="right_arm_link3"/>
        <child link="right_arm_link4"/>
        <axis xyz="0 1 0"/>
        <limit effort="100" lower="-2.356" upper="2.356" velocity="1"/>
    </joint>
    <link name="right_arm_link5">
        <inertial>
            <origin rpy="0 0 0" xyz="1.1466E-06 0.021541 -0.018041"/>
            <mass value="0.23941"/>
            <inertia ixx="0.00028594" ixy="1.8435E-09" ixz="2.6611E-09" iyy="0.00011989" iyz="-4.4238E-05"
                     izz="0.00026273"/>
        </inertial>
        <visual>
            <origin rpy="0 0 0" xyz="0 0 0"/>
            <geometry>
                <mesh filename="meshes/arm/realman_rm75_6f_link5.stl"/>
            </geometry>
            <material name="">
                <color rgba="1 1 1 1"/>
            </material>
        </visual>
        <collision>
            <origin rpy="0 0 0" xyz="0 0 0"/>
            <geometry>
                <mesh filename="meshes/arm/realman_rm75_6f_link5.stl"/>
            </geometry>
        </collision>
    </link>
    <joint name="right_arm_joint5" type="fixed">
        <origin rpy="-1.5708 0 0" xyz="0 0 0.21"/>
        <parent link="right_arm_link4"/>
        <child link="right_arm_link5"/>
        <axis xyz="0 -1 0"/>
        <limit effort="100" lower="-3.107" upper="3.107" velocity="1"/>
    </joint>
    <link name="right_arm_link6">
        <inertial>
            <origin rpy="0 0 0" xyz="4.5754E-06 0.0073681 0.059382"/>
            <mass value="0.21879"/>
            <inertia ixx="0.00035053" ixy="-1.7437E-08" ixz="3.1653E-08" iyy="0.00033447" iyz="7.824E-05"
                     izz="0.00010492"/>
        </inertial>
        <visual>
            <origin rpy="0 0 0" xyz="0 0 0"/>
            <geometry>
                <mesh filename="meshes/arm/realman_rm75_6f_link6.stl"/>
            </geometry>
            <material name="">
                <color rgba="1 1 1 1"/>
            </material>
        </visual>
        <collision>
            <origin rpy="0 0 0" xyz="0 0 0"/>
            <geometry>
                <mesh filename="meshes/arm/realman_rm75_6f_link6.stl"/>
            </geometry>
        </collision>
    </link>
    <joint name="right_arm_joint6" type="fixed">
        <origin rpy="1.5708 0 0" xyz="0 0 0"/>
        <parent link="right_arm_link5"/>
        <child link="right_arm_link6"/>
        <axis xyz="0 1 0"/>
        <limit effort="100" lower="-2.234" upper="2.234" velocity="1"/>
    </joint>
    <link name="right_arm_link7">
        <inertial>
            <origin rpy="0 0 0.5235987755982988" xyz="0.00032231 -0.0001782 -0.028676"/>
            <mass value="0.14433"/>
            <inertia ixx="3.6119E-05" ixy="-1.3242E-06" ixz="-3.2733E-08" iyy="3.4626E-05" iyz="7.6694E-09"
                     izz="6.1463E-05"/>
        </inertial>
        <visual>
            <origin rpy="0 0 0.5235987755982988" xyz="0 0 0"/>
            <geometry>
                <mesh filename="meshes/arm/realman_rm75_6f_link7.stl"/>
            </geometry>
            <material name="">
                <color rgba="1 1 1 1"/>
            </material>
        </visual>
        <collision>
            <origin rpy="0 0 0.5235987755982988" xyz="0 0 0"/>
            <geometry>
                <mesh filename="meshes/arm/realman_rm75_6f_link7.stl"/>
            </geometry>
        </collision>
    </link>
    <joint name="right_arm_joint7" type="fixed">
        <origin rpy="0 0 0" xyz="0 0 0.1725"/>
        <parent link="right_arm_link6"/>
        <child link="right_arm_link7"/>
        <axis xyz="0 0 1"/>
        <limit effort="100" lower="-6.28" upper="6.28" velocity="1"/>
    </joint>
    <joint name="right_arm_end_effector_flange_joint" type="fixed">
        <origin rpy="1.5707963267948966 0 0" xyz="0 0 0"/>
        <parent link="right_arm_link7"/>
        <child link="right_arm_end_effector_flange_link"/>
    </joint>
    <link name="right_arm_end_effector_flange_link">
        <inertial>
            <origin rpy="0 0 0" xyz="4.16209483160246E-18 0.00278869455734304 1.10989195509399E-18"/>
            <mass value="0.0493002920412636"/>
            <inertia ixx="1.86857135099964E-05" ixy="-1.08650432728053E-22" ixz="6.86973902622073E-21"
                     iyy="2.81507409466306E-05" iyz="5.96925628265955E-23" izz="9.79608865148053E-06"/>
        </inertial>
        <visual>
            <origin rpy="0 0 0" xyz="0 0 0"/>
            <geometry>
                <mesh filename="meshes/adapter/arm_end_effector_flange.stl"/>
            </geometry>
            <material name="">
                <color rgba="0.898039215686275 0.917647058823529 0.929411764705882 1"/>
            </material>
        </visual>
        <collision>
            <origin rpy="0 0 0" xyz="0 0 0"/>
            <geometry>
                <mesh filename="meshes/adapter/arm_end_effector_flange.stl"/>
            </geometry>
        </collision>
    </link>
    <joint name="right_arm_camera_d415_flange_joint" type="fixed">
        <origin rpy="0 3.141592653589793 0" xyz="0 0 0"/>
        <parent link="right_arm_end_effector_flange_link"/>
        <child link="right_arm_camera_d415_flange_link"/>
    </joint>
    <link name="right_arm_camera_d415_flange_link">
        <inertial>
            <origin rpy="0 0 0" xyz="0.0592822351376299 -0.00148955992172333 -1.22797983111768E-18"/>
            <mass value="0.0176545384826988"/>
            <inertia ixx="7.7882126527069E-06" ixy="9.59349299176604E-09" ixz="6.26265028189193E-22"
                     iyy="2.12052757044674E-05" iyz="1.57916543683687E-22" izz="1.34435410109635E-05"/>
        </inertial>
        <visual>
            <origin rpy="0 0 0" xyz="0 0 0"/>
            <geometry>
                <mesh filename="meshes/adapter/camera_d415_flange.stl"/>
            </geometry>
            <material name="">
                <color rgba="0.898039215686275 0.917647058823529 0.929411764705882 1"/>
            </material>
        </visual>
        <collision>
            <origin rpy="0 0 0" xyz="0 0 0"/>
            <geometry>
                <mesh filename="meshes/adapter/camera_d415_flange.stl"/>
            </geometry>
        </collision>
    </link>
    <!-- camera body, with origin at bottom screw mount -->
    <joint name="right_arm_camera_joint" type="fixed">
        <origin rpy="1.5707963267948966 0 1.5707963267948966" xyz="0.0935 0.01 0"/>
        <parent link="right_arm_end_effector_flange_link"/>
        <child link="right_arm_camera_bottom_screw_frame"/>
    </joint>
    <link name="right_arm_camera_bottom_screw_frame">
        <inertial>
            <mass value="0"/>
            <inertia ixx="0" ixy="0" ixz="0" iyy="0" iyz="0" izz="0"/>
        </inertial>
    </link>
    <joint name="right_arm_camera_link_joint" type="fixed">
        <origin rpy="0 0 0" xyz="0 0.02 0.0115"/>
        <parent link="right_arm_camera_bottom_screw_frame"/>
        <child link="right_arm_camera_link"/>
    </joint>
    <link name="right_arm_camera_link">
        <visual>
            <origin rpy="1.5707963267948966 0 1.5707963267948966" xyz="0.00987 -0.02 0"/>
            <geometry>
                <box size="0.02005 0.099 0.023"/>
                <!-- <mesh filename="meshes/camera/camera_d415.stl"/> -->
            </geometry>
            <material name="aluminum"/>
        </visual>
        <collision>
            <origin rpy="0 0 0" xyz="0 -0.02 0"/>
            <geometry>
                <box size="0.02005 0.099 0.023"/>
            </geometry>
        </collision>
        <inertial>
            <mass value="0.072"/>
            <origin xyz="0 0 0"/>
            <inertia ixx="0.003881243" ixy="0.0" ixz="0.0" iyy="0.000498940" iyz="0.0" izz="0.003879257"/>
        </inertial>
    </link>
    <joint name="right_arm_camera_usb_plug_joint" type="fixed">
        <origin rpy="0 0 0" xyz="-0.005999999999999998 -0.0558 0"/>
        <parent link="right_arm_camera_link"/>
        <child link="right_arm_camera_usb_plug_link"/>
    </joint>
    <link name="right_arm_camera_usb_plug_link">
        <inertial>
            <mass value="0"/>
            <inertia ixx="0" ixy="0" ixz="0" iyy="0" iyz="0" izz="0"/>
        </inertial>
        <visual>
            <!-- 0.044850 0.008000 0.018500 -->
            <origin rpy="0 0 1.5707963267948966" xyz="0. -0.022425 0."/>
            <geometry>
                <!--box
                  size="0.044850 0.008 0.0185" /-->
                <!-- <mesh filename="meshes/camera/camera_d415_plug.stl"/> -->
                <mesh filename="meshes/camera/camera_d415_plug_collision.stl"/>
            </geometry>
            <material name="plastic"/>
        </visual>
        <collision>
            <origin rpy="0 0 1.5707963267948966" xyz="0. -0.022425 0."/>
            <geometry>
                <!--box
                  size="0.044850 0.008 0.0185" /-->
                <mesh filename="meshes/camera/camera_d415_plug_collision.stl"/>
            </geometry>
        </collision>
    </link>
    <joint name="long_sucker_joint" type="fixed">
        <origin rpy="-1.5707963267948966 0 0" xyz="0 0 0"/>
        <parent link="right_arm_end_effector_flange_link"/>
        <child link="long_sucker_base_link"/>
    </joint>
    <link name="long_sucker_base_link">
        <inertial>
            <origin rpy="0 0 0" xyz="9.6761E-19 2.1789E-18 0.045815"/>
            <mass value="0.041801"/>
            <inertia ixx="2.3665E-05" ixy="-6.0121E-13" ixz="-1.9005E-21" iyy="1.8804E-05" iyz="5.1127E-22"
                     izz="1.3199E-05"/>
        </inertial>
        <visual>
            <origin rpy="0 0 0" xyz="0 0 0"/>
            <geometry>
                <mesh filename="meshes/sucker/long_sucker_base_link.stl"/>
            </geometry>
            <material name="">
                <color rgba="1 1 1 1"/>
            </material>
        </visual>
        <collision>
            <origin rpy="0 0 0" xyz="0 0 0"/>
            <geometry>
                <mesh filename="meshes/sucker/long_sucker_base_link.stl"/>
            </geometry>
        </collision>
    </link>
    <link name="long_sucker_tool_link">
        <inertial>
            <origin rpy="0 0 0" xyz="0.053681 -3.4471E-18 -1.0122E-18"/>
            <mass value="0.046846"/>
            <inertia ixx="5.9407E-06" ixy="4.4127E-22" ixz="3.6813E-22" iyy="6.5954E-05" iyz="1.0667E-23"
                     izz="6.5954E-05"/>
        </inertial>
        <visual>
            <origin rpy="0 0 0" xyz="0 0 0"/>
            <geometry>
                <mesh filename="meshes/sucker/long_sucker_tool_link.stl"/>
            </geometry>
            <material name="">
                <color rgba="0.89804 0.91765 0.92941 1"/>
            </material>
        </visual>
        <collision>
            <origin rpy="0 0 0" xyz="0 0 0"/>
            <geometry>
                <mesh filename="meshes/sucker/long_sucker_tool_link.stl"/>
            </geometry>
        </collision>
    </link>
    <joint name="long_sucker_tool_joint" type="fixed">
        <!-- <origin rpy="1.5708 1.5708 0" xyz="0 0 0.2285" /> -->
        <origin rpy="0 1.5708 0" xyz="0 0 0.2285"/>
        <parent link="long_sucker_base_link"/>
        <child link="long_sucker_tool_link"/>
        <axis xyz="0 0 0"/>
    </joint>
    <link name="long_sucker_tcp_link">
        <inertial>
            <mass value="0"/>
            <inertia ixx="0" ixy="0" ixz="0" iyy="0" iyz="0" izz="0"/>
        </inertial>
    </link>
    <joint name="long_sucker_tcp_joint" type="fixed">
        <origin rpy="0 0 0" xyz="0.015 0 0"/>
        <parent link="long_sucker_tool_link"/>
        <child link="long_sucker_tcp_link"/>
        <axis xyz="0 0 0"/>
    </joint>

</robot>
